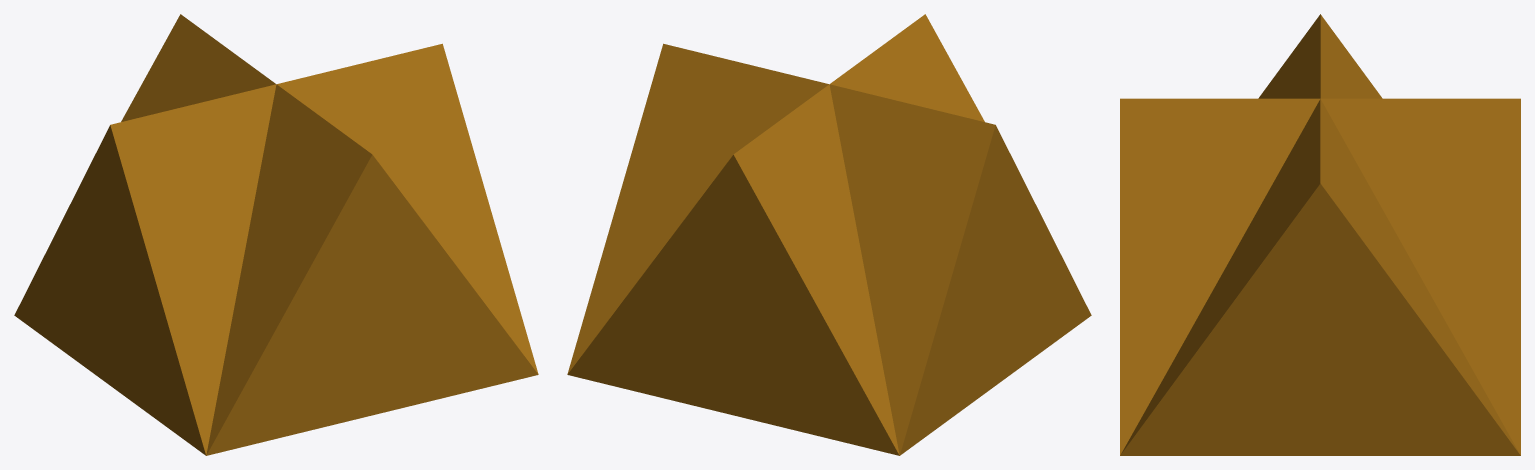
File: Roof-Steep-4x4x3-Gable-Cross.FBX
3 views of the same model, side by side, from view 1: azimuth 30°, elevation 25°; view 2: azimuth 150°, elevation 25°; view 3: azimuth 270°, elevation 25° (orthographic). The views are drawn at different scales.
Visible parts, largest first — view 1: Roof-Steep-4x4x3-Gable-Cross; view 2: Roof-Steep-4x4x3-Gable-Cross; view 3: Roof-Steep-4x4x3-Gable-Cross.
Boxes of the visible parts, left/top/right/bottom form: Roof-Steep-4x4x3-Gable-Cross: left=14, top=14, right=538, bottom=455; Roof-Steep-4x4x3-Gable-Cross: left=567, top=14, right=1091, bottom=455; Roof-Steep-4x4x3-Gable-Cross: left=1120, top=14, right=1520, bottom=455.
Bounding box in the file's own units: 40 × 40 × 30.
